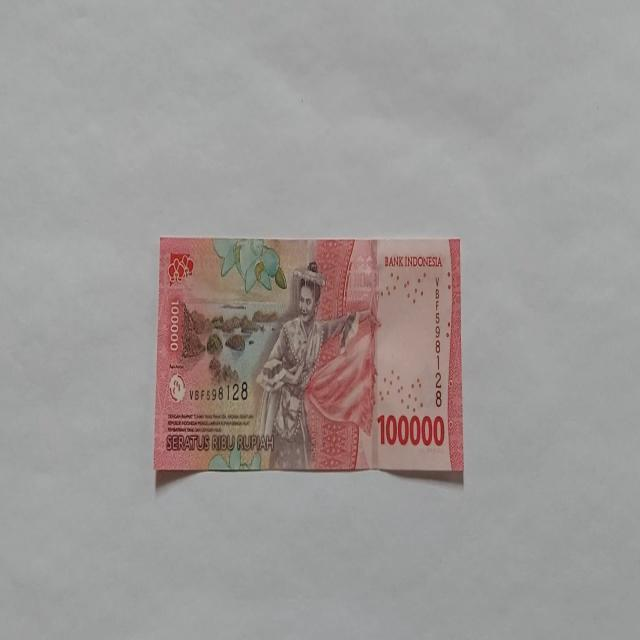seratus ribu rupiah: (152, 234, 464, 476), (252, 260, 360, 470)
